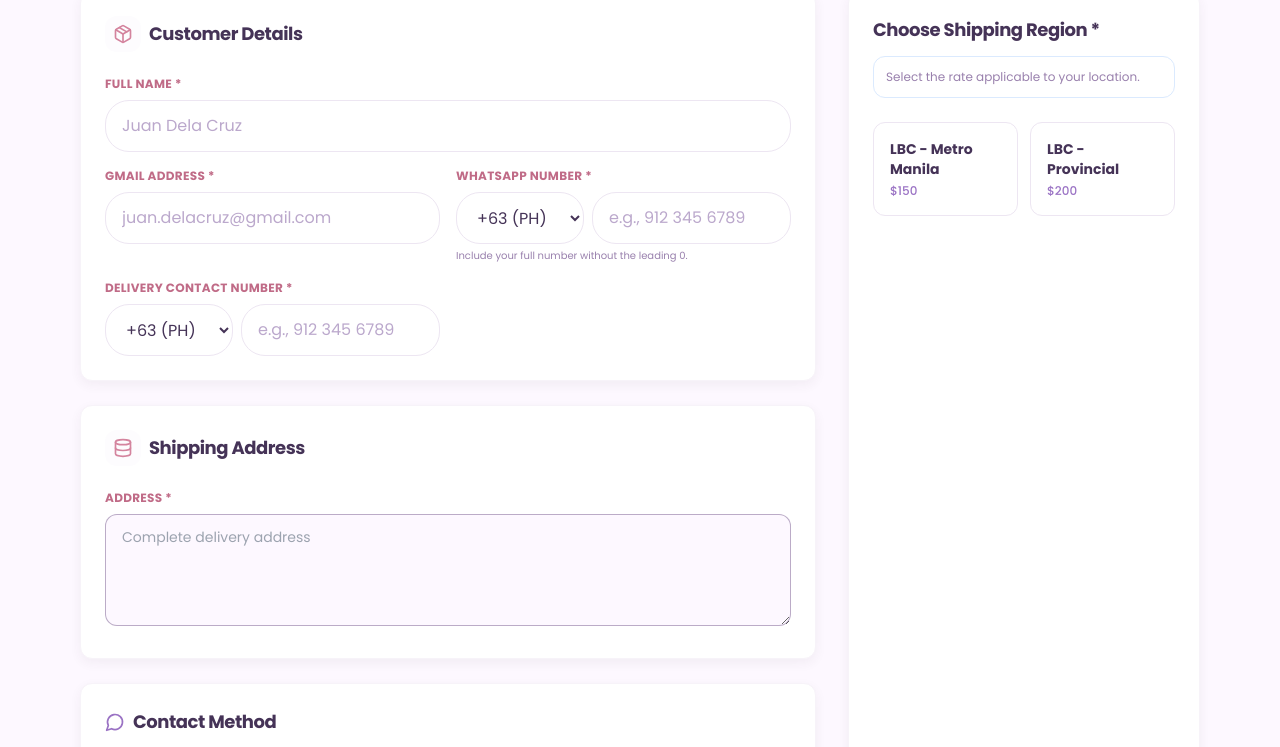
Scenario: Checkout component › step navigation › shows payment methods on payment step
The width and height of the screenshot is (1280, 747).
Type "Test User" into the field with placeholder "Juan Dela Cruz" at (448, 126), box [105,100,791,152]
Type "test@gmail.com" into the field with placeholder "juan.delacruz@gmail.com" at (272, 218), box [105,192,440,244]
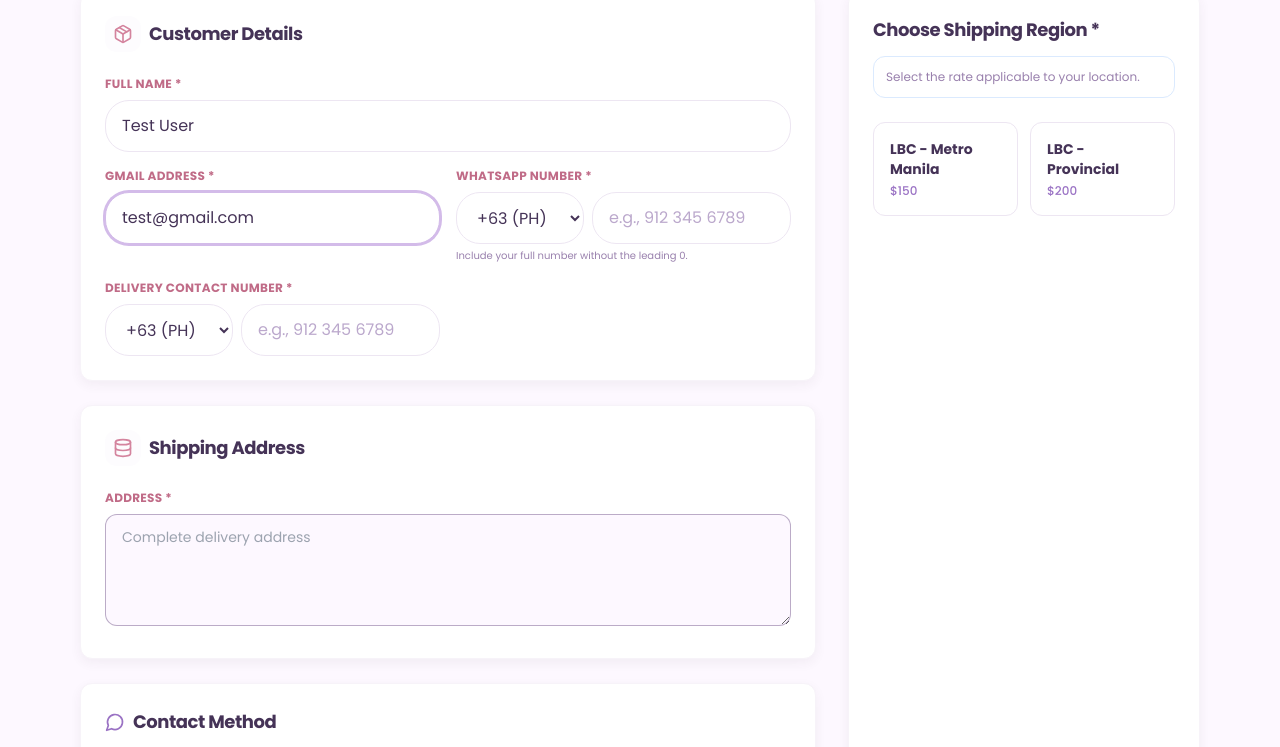
Type "9171234567" into the field with placeholder "e.g., 912 345 6789" below "WhatsApp Number *" at (692, 218), box [592,192,791,244]
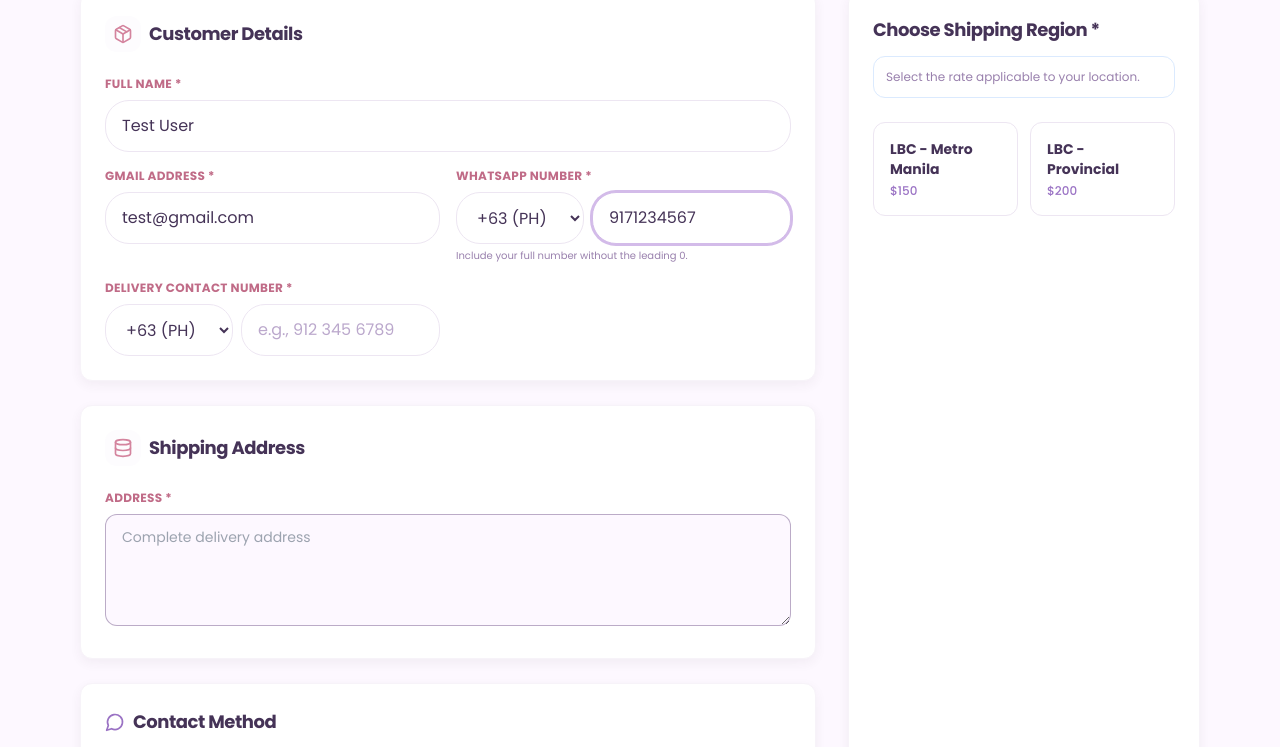
Type "9187654321" into the field with placeholder "e.g., 912 345 6789" at (340, 330), box [241,304,440,356]
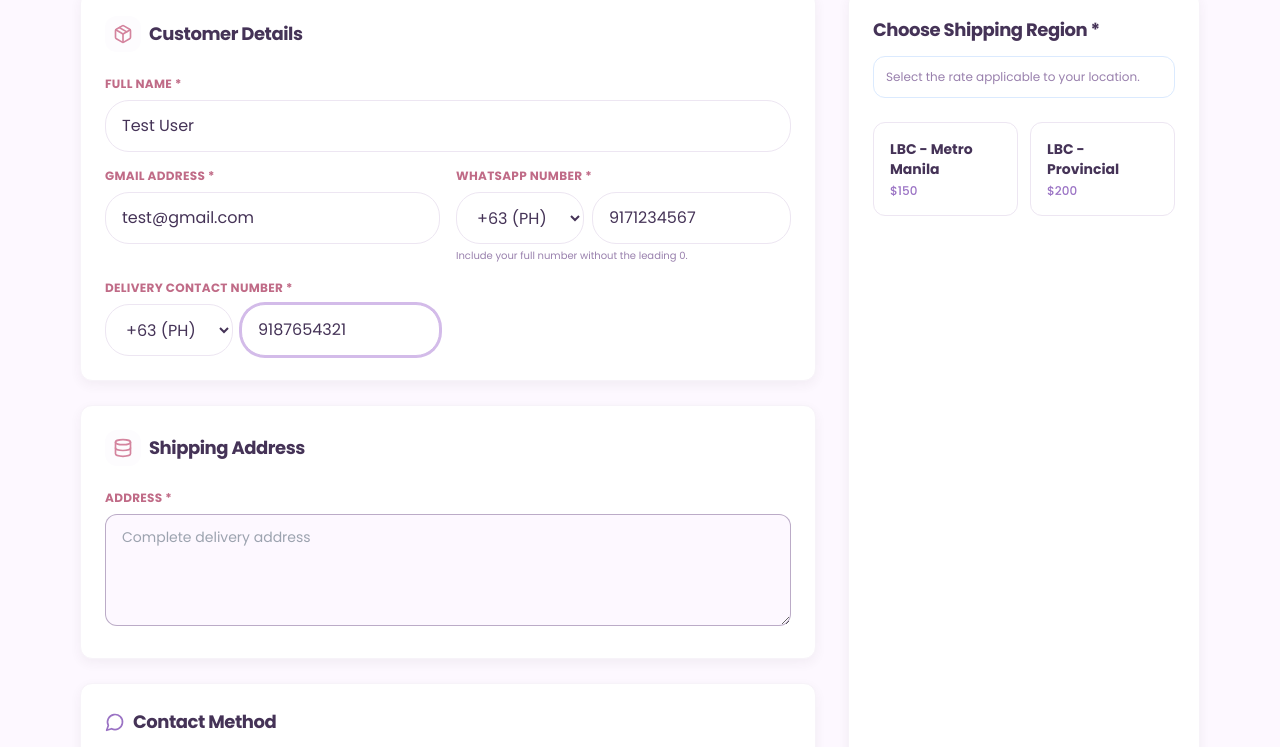
Type "123 Main St, Makati City, Metro Manila, 1200" into the text box with placeholder "Complete delivery address" at (448, 570), box [105,514,791,626]
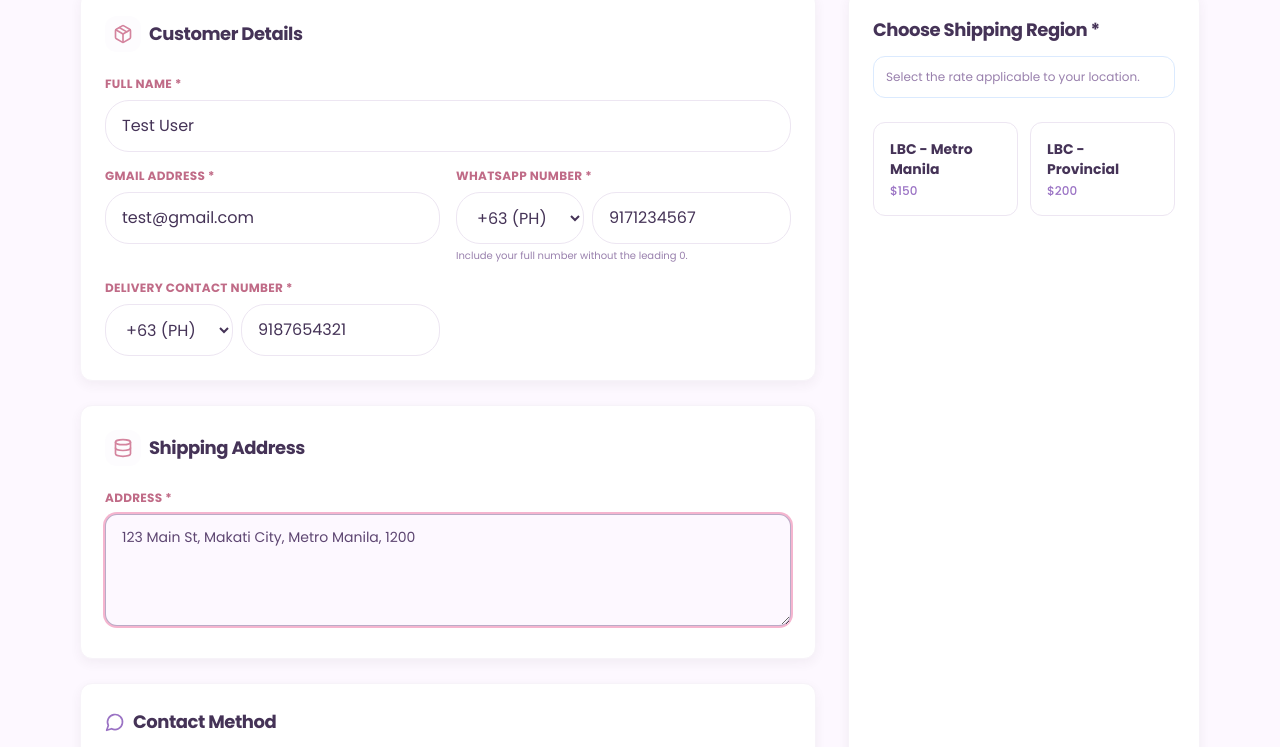
Click the text "LBC - Metro Manila" at (931, 159), box [890,139,973,179]
(page scrolled)
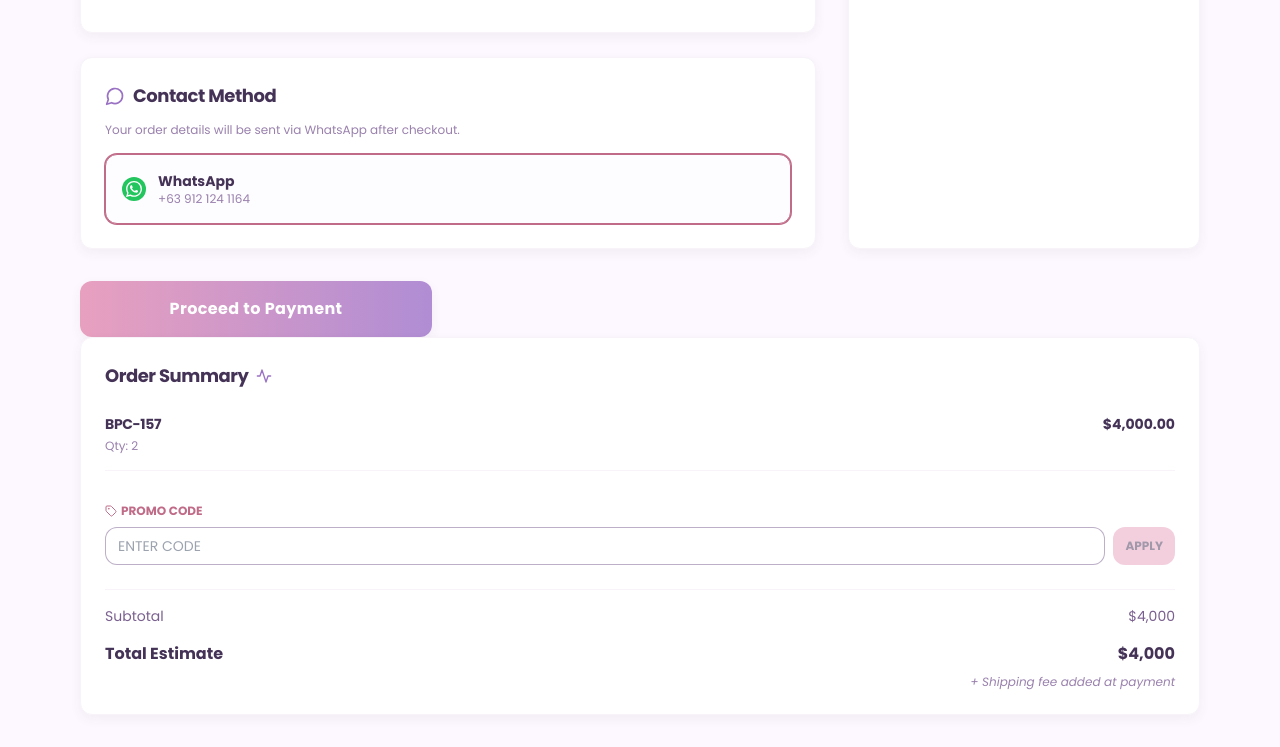
Click the button "Proceed to Payment" at (256, 309), box [80,281,432,337]
(page scrolled)
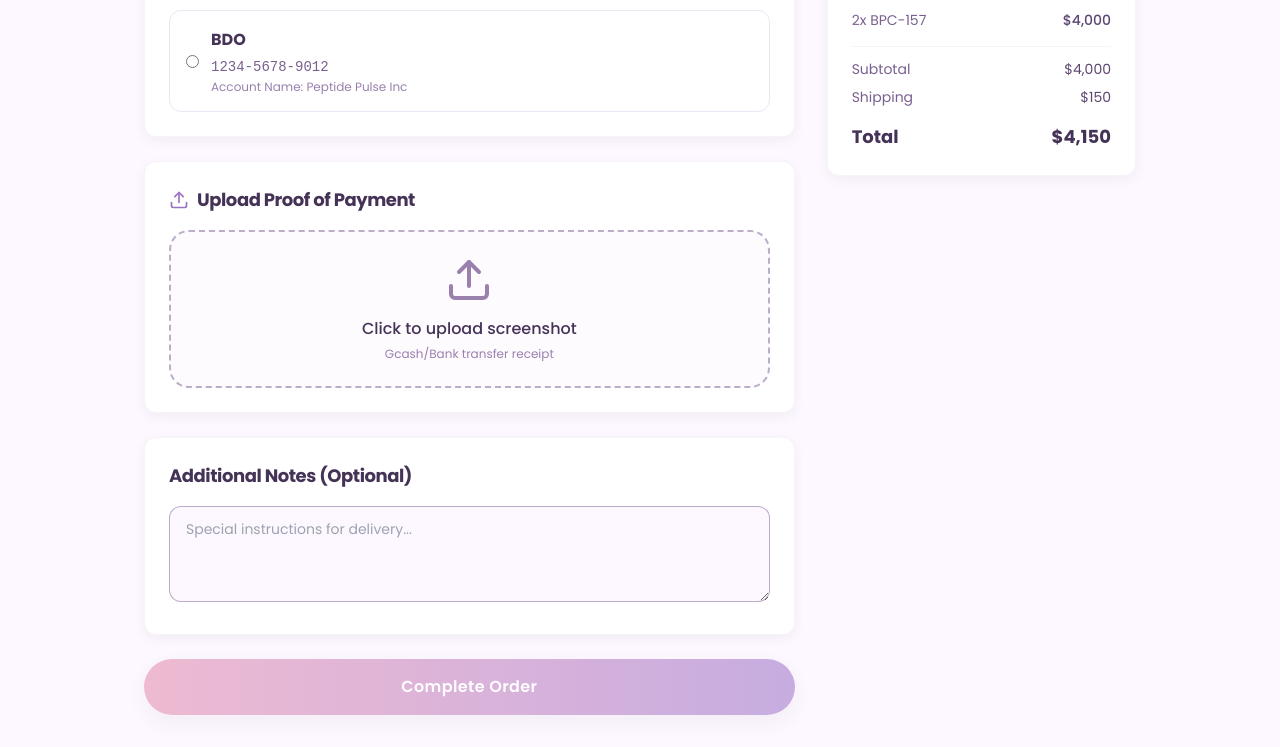
Now the text "BDO" is shown, box [211,28,246,51]
